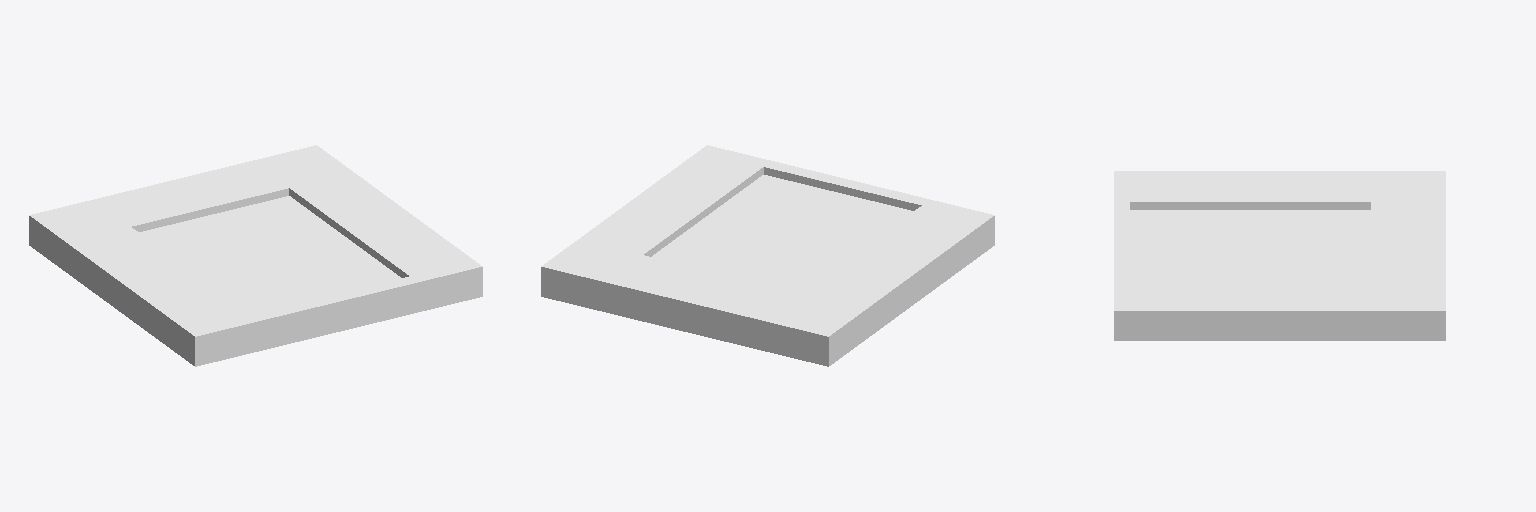
File: DE4.vox.obj
3 views of the same model, side by side, from view 1: azimuth 30°, elevation 25°; view 2: azimuth 150°, elevation 25°; view 3: azimuth 270°, elevation 25° (orthographic).
Parts seen in each view (by area): view 1: object 1; view 2: object 1; view 3: object 1.
Part boxes in pixels (bbox=[...]): object 1: bbox=[29, 145, 482, 366]; object 1: bbox=[541, 145, 994, 366]; object 1: bbox=[1114, 171, 1445, 340].
Size of the model in its own units: 4 by 0.4 by 4.